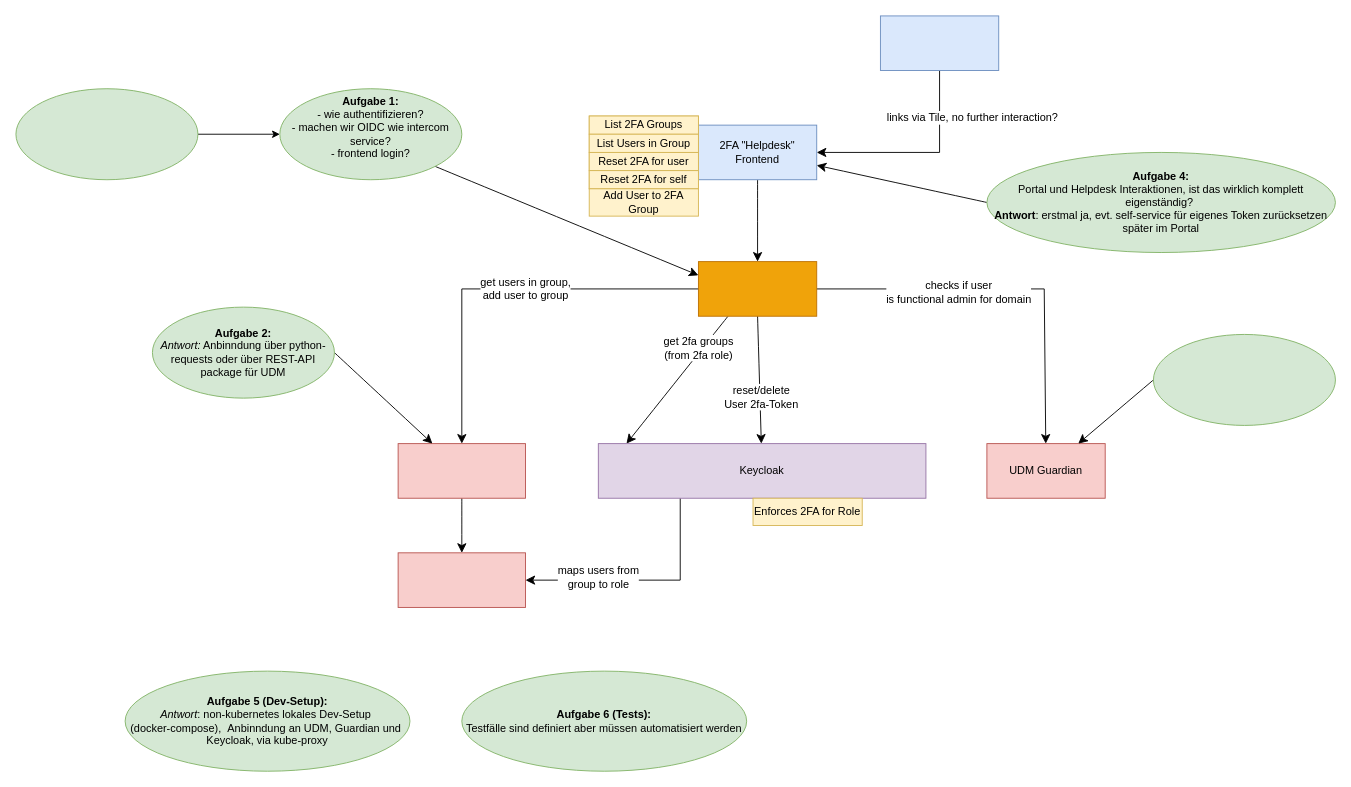
Image size: 1351x787. Some labels were removed from this diagram. Each missing label, with the centre of its shape:
2FA Backend: the point at 757,288
Aufgabe 3: - Wie funktioniert das? - Wirklich so einfach wie Beispiel-Code?: the point at 1244,379
LDAP: the point at 461,579
Portal: the point at 939,43
UDM API via Service Account Guardian via Token? unklar!: the point at 106,134
UDM-API: the point at 461,470
